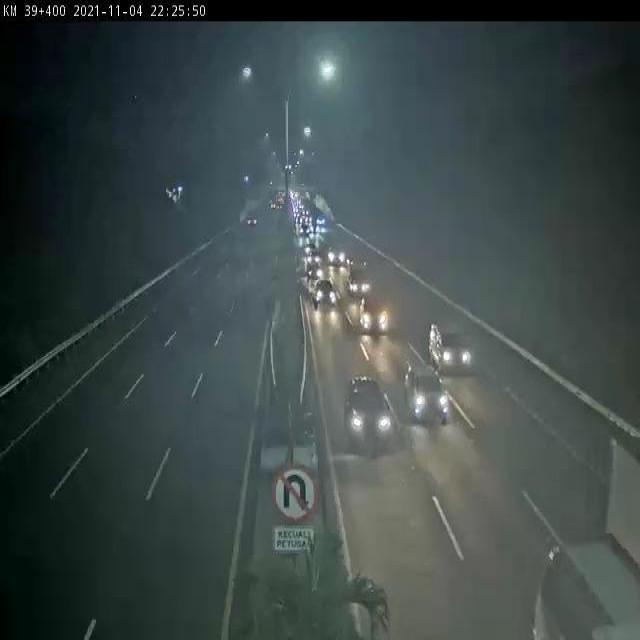car: (515, 544, 640, 640), (344, 373, 401, 460), (400, 360, 454, 433), (427, 311, 478, 380), (360, 290, 399, 338), (324, 240, 351, 265), (314, 280, 337, 308), (305, 262, 326, 282)
truck-s-: (605, 428, 640, 580), (347, 263, 374, 296)
